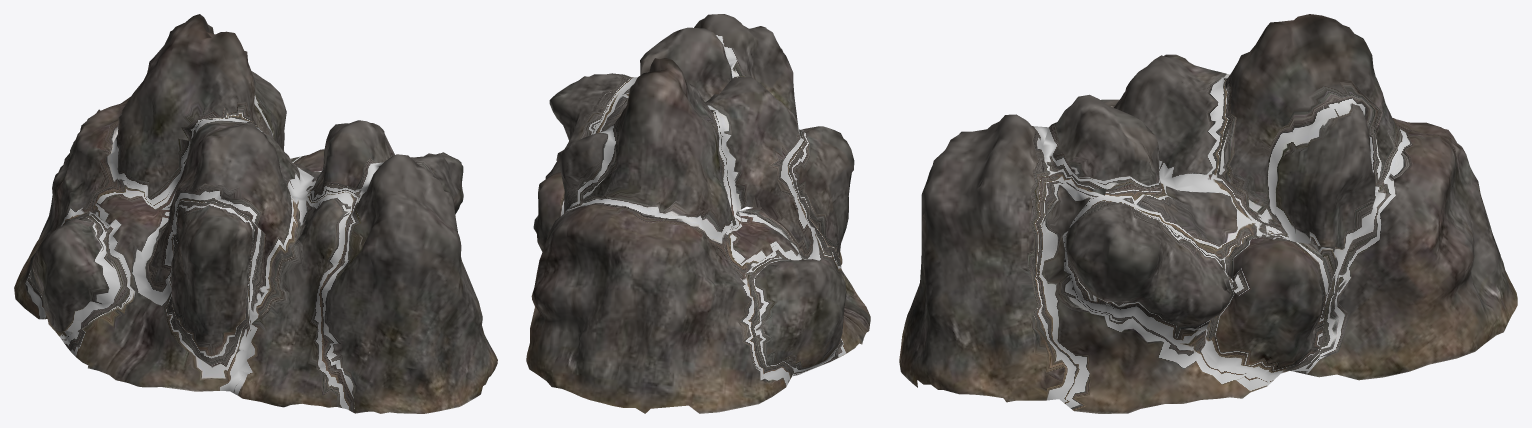
File: rock1.glb
3 views of the same model, side by side, from view 1: azimuth 30°, elevation 25°; view 2: azimuth 150°, elevation 25°; view 3: azimuth 270°, elevation 25° (orthographic). The views are drawn at different scales.
Bounding box in the file's own units: 22.11 × 16.57 × 29.26.
1 material, 1 textured.
